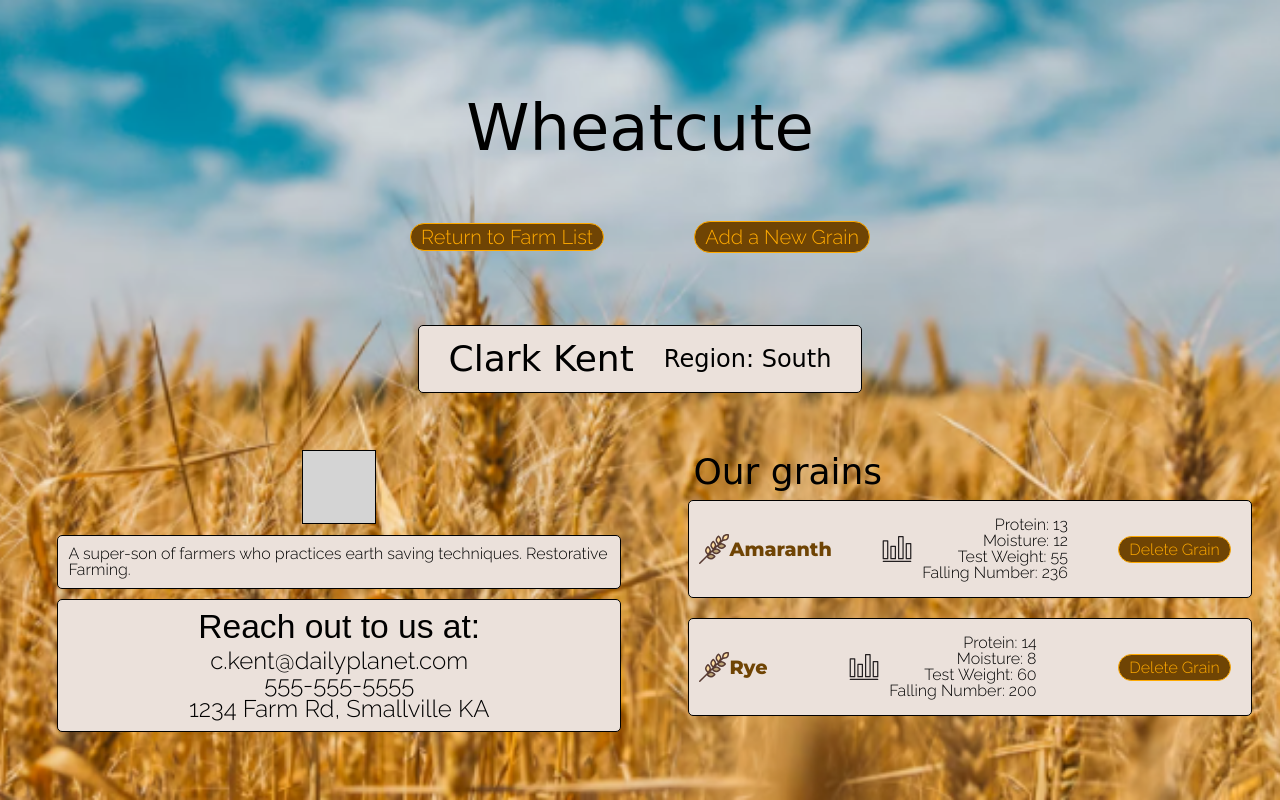
Test: form functionality › should give an error message if not all required fields are filled with a click on the submit
Click the button with class "update-farmer-nav-btn" showing "Add a New Grain" at (782, 237), box top-left (694, 221), bottom-right (870, 253)
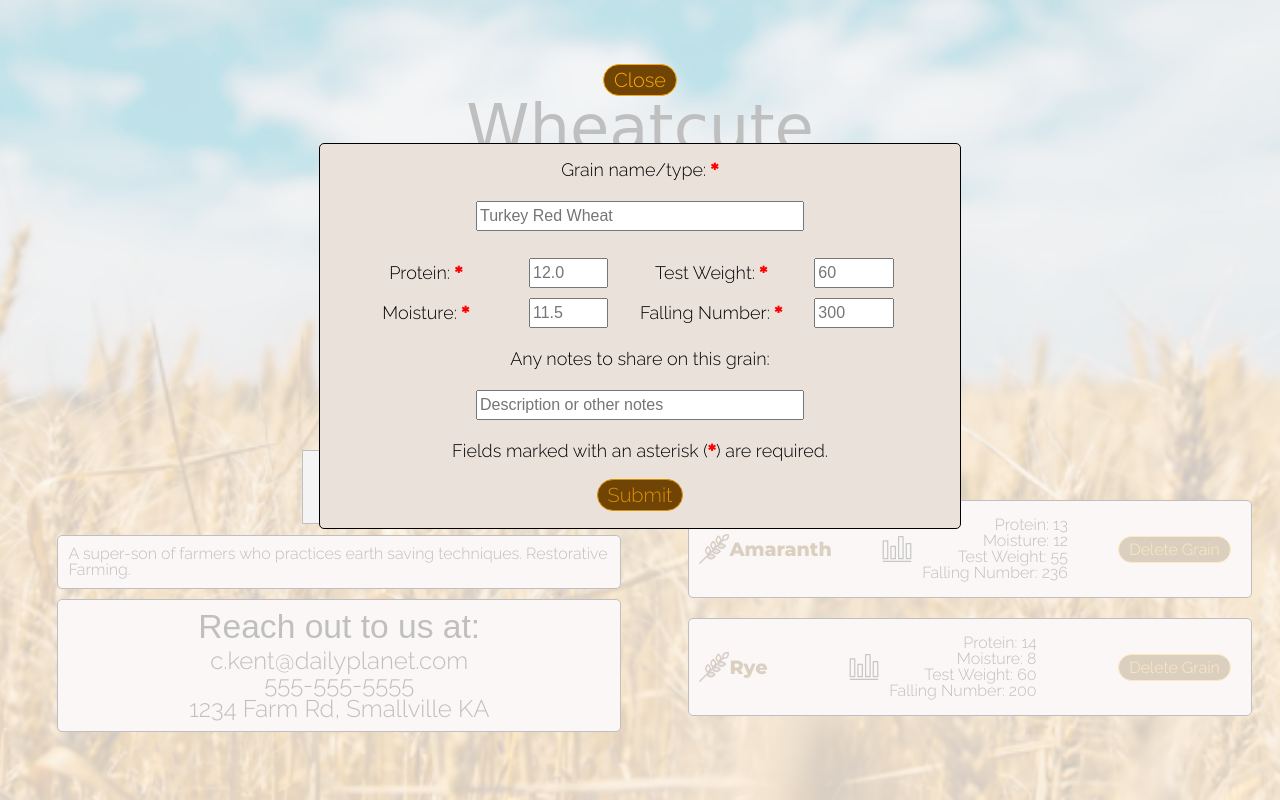
Type "White Sonora Wheat" into the field labelled "Grain name/type: *" at (640, 216), box top-left (476, 201), bottom-right (804, 231)
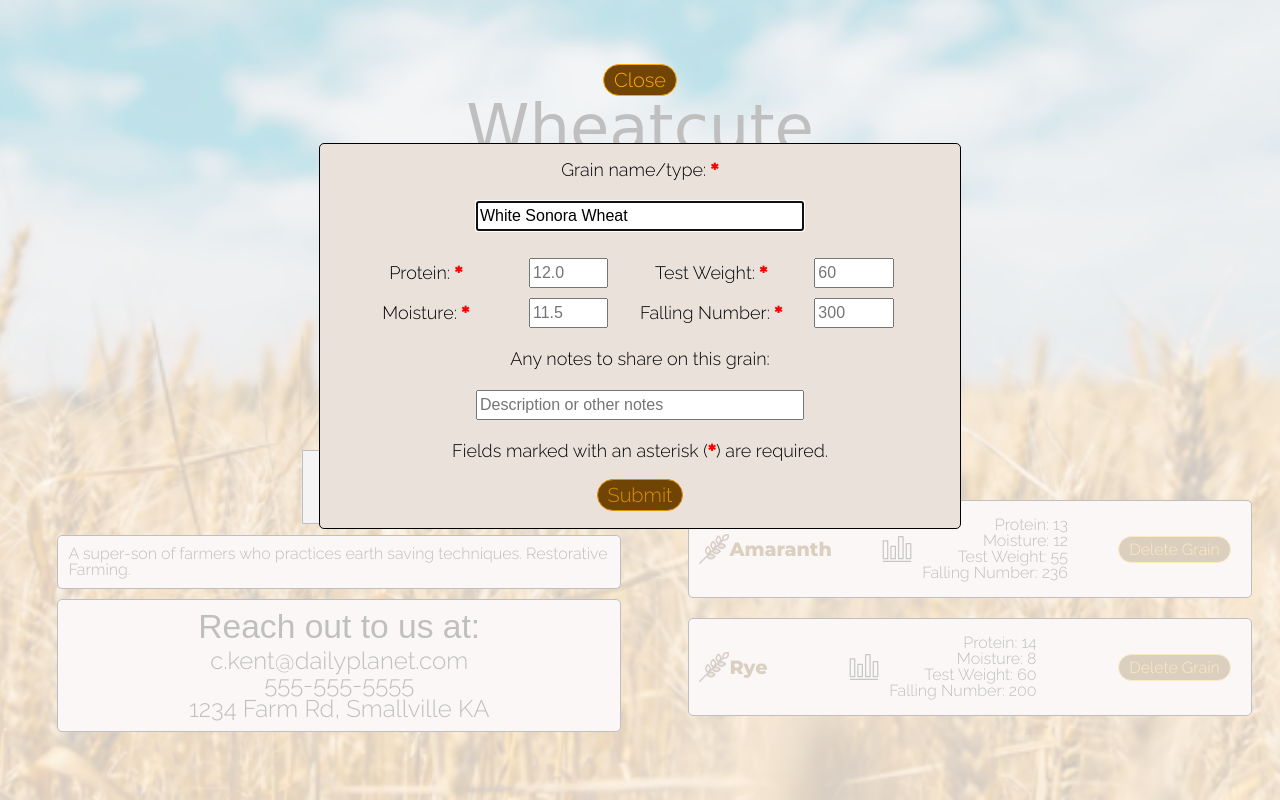
Expected: the text "Please fill out all required fields." is not shown
Click the button "Submit" at (641, 495), box top-left (597, 479), bottom-right (684, 511)
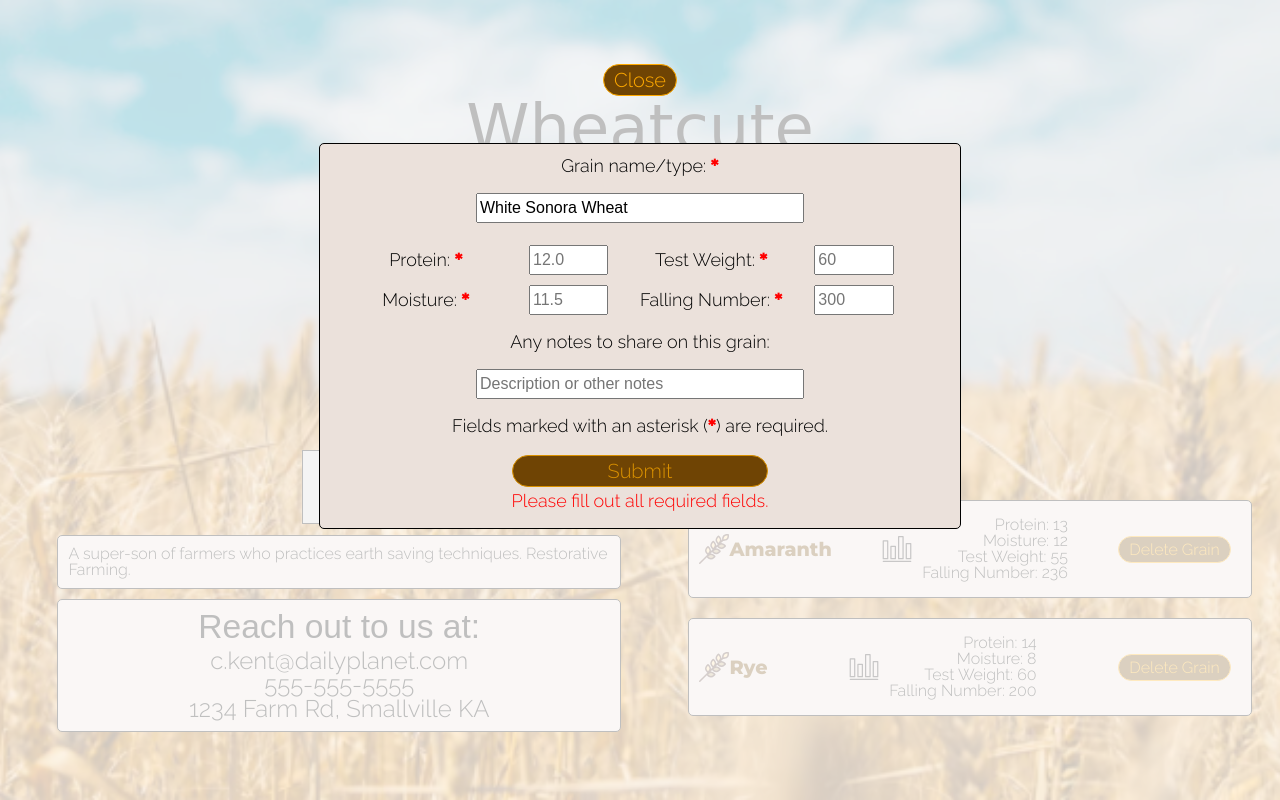
Expected: the text "Please fill out all required fields." is shown, top-left (512, 487), bottom-right (768, 515)
